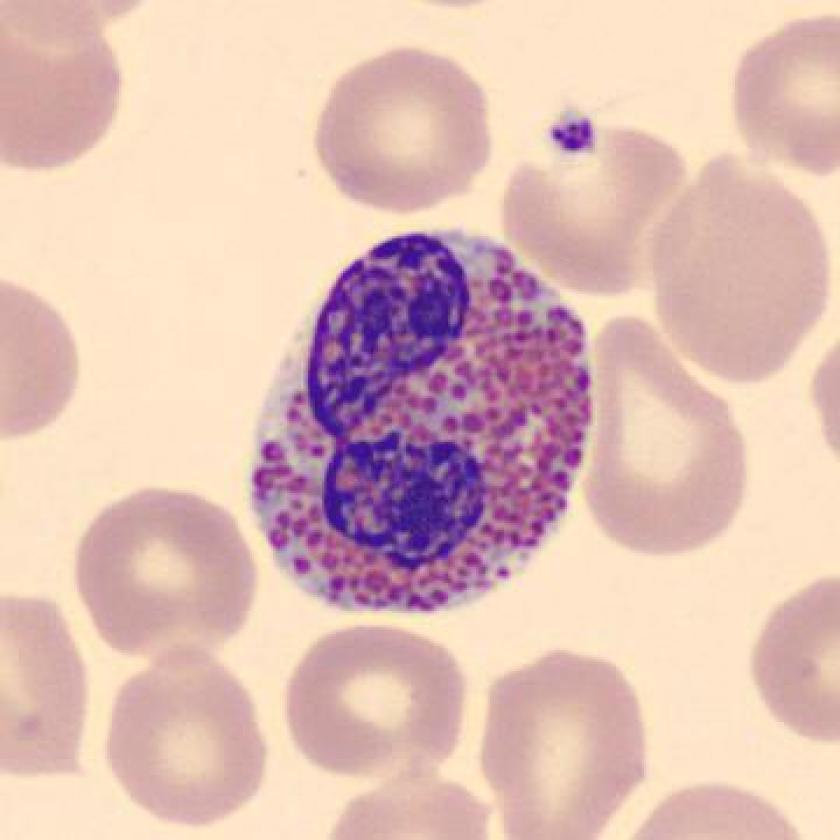eosinophil: (232, 207, 610, 628)
